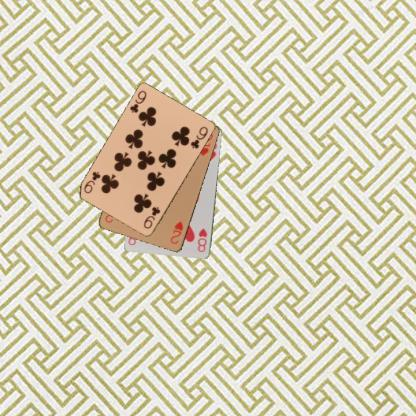2h: (167, 219, 185, 246)
8h: (195, 226, 209, 254)
9c: (141, 204, 162, 230), (127, 88, 148, 114)
